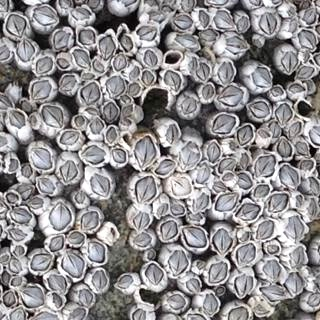Barnacle: (135, 133, 157, 168), (135, 175, 158, 204), (49, 201, 72, 229), (62, 252, 86, 277), (180, 140, 200, 170), (218, 85, 245, 106), (284, 216, 305, 242), (42, 104, 64, 128), (255, 154, 276, 179), (213, 113, 238, 134), (168, 249, 188, 275), (214, 229, 233, 256), (22, 286, 46, 307), (215, 191, 240, 211), (90, 173, 110, 198), (83, 144, 108, 164), (236, 202, 262, 221), (143, 262, 165, 284), (31, 79, 53, 101), (183, 226, 206, 247), (280, 164, 301, 187), (80, 82, 101, 105), (6, 14, 27, 37), (237, 242, 256, 267), (223, 36, 248, 55), (260, 12, 279, 37), (32, 6, 57, 25), (31, 147, 53, 168), (105, 75, 125, 98), (248, 100, 270, 120), (236, 273, 254, 297), (260, 259, 280, 280), (252, 66, 272, 87), (285, 273, 304, 295), (81, 210, 100, 232), (281, 50, 299, 73), (172, 176, 191, 197), (213, 10, 234, 29), (209, 261, 227, 283), (18, 38, 35, 61), (220, 61, 236, 85), (131, 211, 150, 231), (269, 193, 289, 212), (298, 29, 317, 49), (256, 219, 274, 240), (275, 103, 293, 124), (290, 246, 305, 271), (88, 241, 105, 263), (61, 159, 78, 181), (165, 70, 182, 92), (32, 253, 52, 271), (161, 219, 179, 239), (156, 157, 176, 175), (7, 226, 28, 243), (262, 286, 285, 301), (195, 161, 210, 184), (100, 36, 115, 59), (166, 292, 186, 309), (193, 192, 210, 212), (59, 129, 80, 145), (238, 124, 254, 145), (177, 33, 198, 49), (48, 273, 66, 291), (112, 54, 130, 72), (61, 74, 78, 93), (36, 55, 53, 74), (54, 30, 71, 49), (11, 208, 32, 223), (227, 305, 249, 319), (204, 293, 218, 315), (16, 183, 33, 201), (38, 177, 56, 194), (74, 50, 90, 69), (79, 289, 94, 309), (277, 136, 292, 156), (296, 65, 316, 80), (10, 110, 26, 128), (93, 270, 108, 289), (138, 26, 157, 41), (174, 14, 193, 29), (198, 61, 212, 81), (148, 10, 168, 24), (166, 124, 179, 145), (120, 31, 133, 52), (118, 273, 135, 289), (219, 155, 235, 172), (182, 96, 198, 113), (79, 29, 96, 45), (208, 140, 220, 162), (27, 195, 44, 210), (237, 172, 252, 189), (90, 117, 105, 134), (104, 103, 118, 121), (145, 48, 158, 67), (49, 236, 64, 252), (111, 147, 126, 163), (68, 231, 85, 245), (253, 184, 270, 198), (295, 140, 309, 157), (71, 8, 92, 19), (9, 257, 23, 273), (135, 233, 152, 246), (106, 126, 118, 144), (289, 120, 301, 138), (289, 82, 307, 94), (198, 9, 210, 27), (51, 291, 64, 307), (268, 122, 281, 138), (304, 8, 317, 24), (70, 307, 87, 319), (188, 277, 200, 294), (308, 198, 318, 218), (10, 306, 25, 319), (3, 291, 16, 306), (0, 94, 13, 109), (157, 201, 169, 217), (211, 181, 227, 193), (309, 177, 319, 196), (143, 68, 154, 85), (237, 16, 248, 33), (93, 58, 105, 73), (123, 103, 134, 119), (201, 29, 217, 40), (0, 45, 10, 62), (307, 293, 319, 307), (171, 203, 185, 215), (301, 159, 315, 171), (203, 85, 215, 99), (8, 158, 19, 173), (240, 152, 250, 168), (188, 55, 198, 71), (20, 99, 32, 112), (133, 308, 147, 319), (254, 303, 268, 314), (74, 115, 85, 129), (271, 85, 285, 96), (56, 57, 70, 68), (83, 106, 100, 115), (14, 244, 26, 256), (267, 243, 280, 254), (182, 0, 195, 11), (130, 82, 140, 96), (130, 66, 140, 80), (75, 190, 85, 203), (23, 164, 33, 177), (145, 0, 161, 8), (240, 229, 250, 241), (6, 192, 18, 202), (189, 212, 202, 221), (288, 19, 297, 32), (3, 270, 11, 284), (107, 227, 115, 241), (259, 129, 270, 139), (222, 173, 234, 182), (295, 194, 303, 207), (82, 71, 95, 79), (87, 0, 100, 8), (59, 0, 72, 8), (164, 4, 175, 13), (302, 50, 310, 62), (31, 115, 38, 127), (0, 254, 9, 263), (196, 260, 204, 270), (287, 6, 295, 16), (230, 139, 237, 149)
